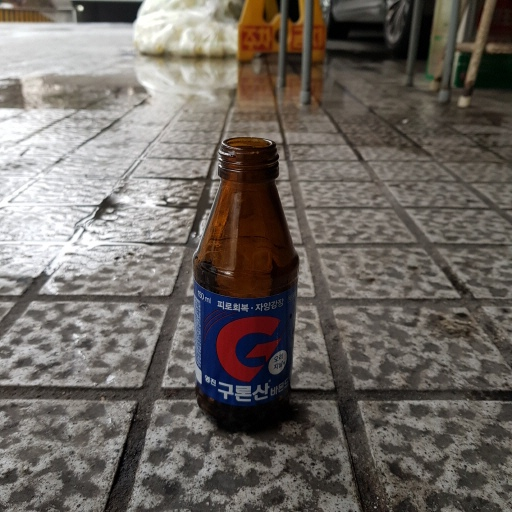Glass_3: (184, 134, 306, 431)
